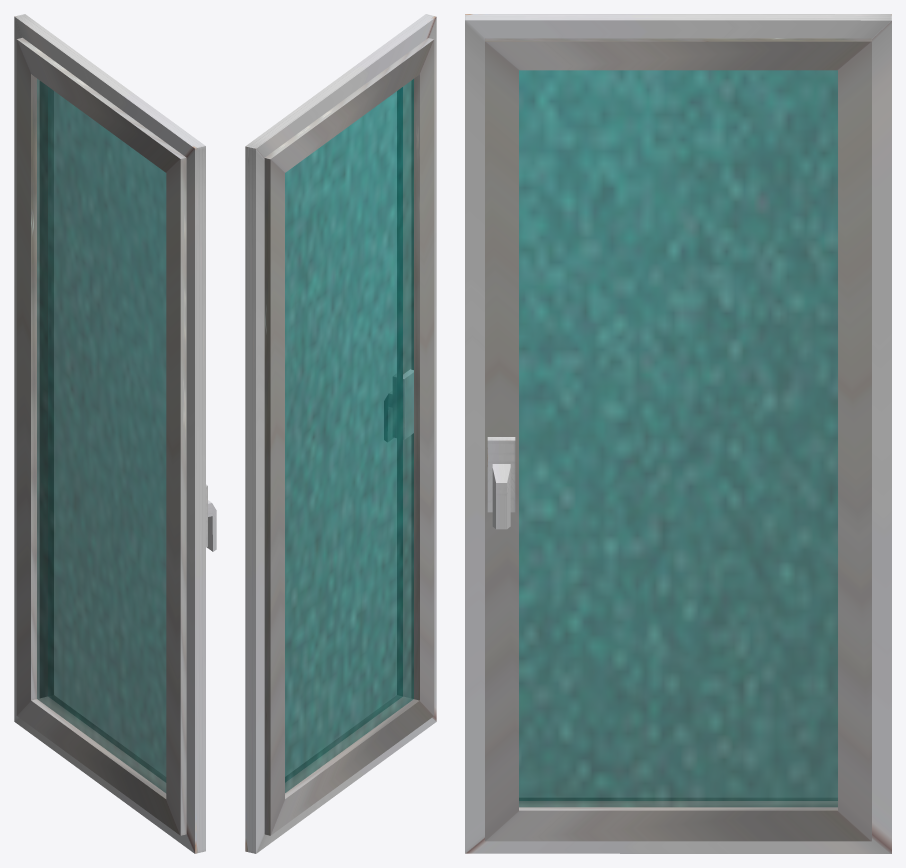
The model's file is windowDoor.FBX.
The picture shows the model from 3 angles, left to right: view 1: azimuth 30°, elevation 25°; view 2: azimuth 150°, elevation 25°; view 3: azimuth 270°, elevation 25°; orthographic projection. The views are drawn at different scales.
Parts seen in each view (by area): view 1: Object003, Object005, Object004, Object001; view 2: Object003, Object005, Object004, Box003, Object001; view 3: Object003, Object005, Object004, Box003, Object001.
Part boxes in pixels (x1=…): Object003: x1=37, y1=79, x2=166, y2=792; Object005: x1=16, y1=37, x2=186, y2=835; Object004: x1=14, y1=14, x2=205, y2=853; Object001: x1=206, y1=500, x2=216, y2=551; Object003: x1=285, y1=79, x2=413, y2=792; Object005: x1=264, y1=38, x2=434, y2=835; Object004: x1=245, y1=14, x2=436, y2=853; Box003: x1=393, y1=369, x2=413, y2=439; Object001: x1=384, y1=391, x2=392, y2=441; Object003: x1=519, y1=70, x2=837, y2=807; Object005: x1=485, y1=38, x2=871, y2=841; Object004: x1=465, y1=14, x2=891, y2=853; Box003: x1=487, y1=437, x2=515, y2=512; Object001: x1=492, y1=464, x2=510, y2=529.
Bounding box in the file's own units: 17.92 × 296 × 137.
Materials: 4 (4 with a texture image).
